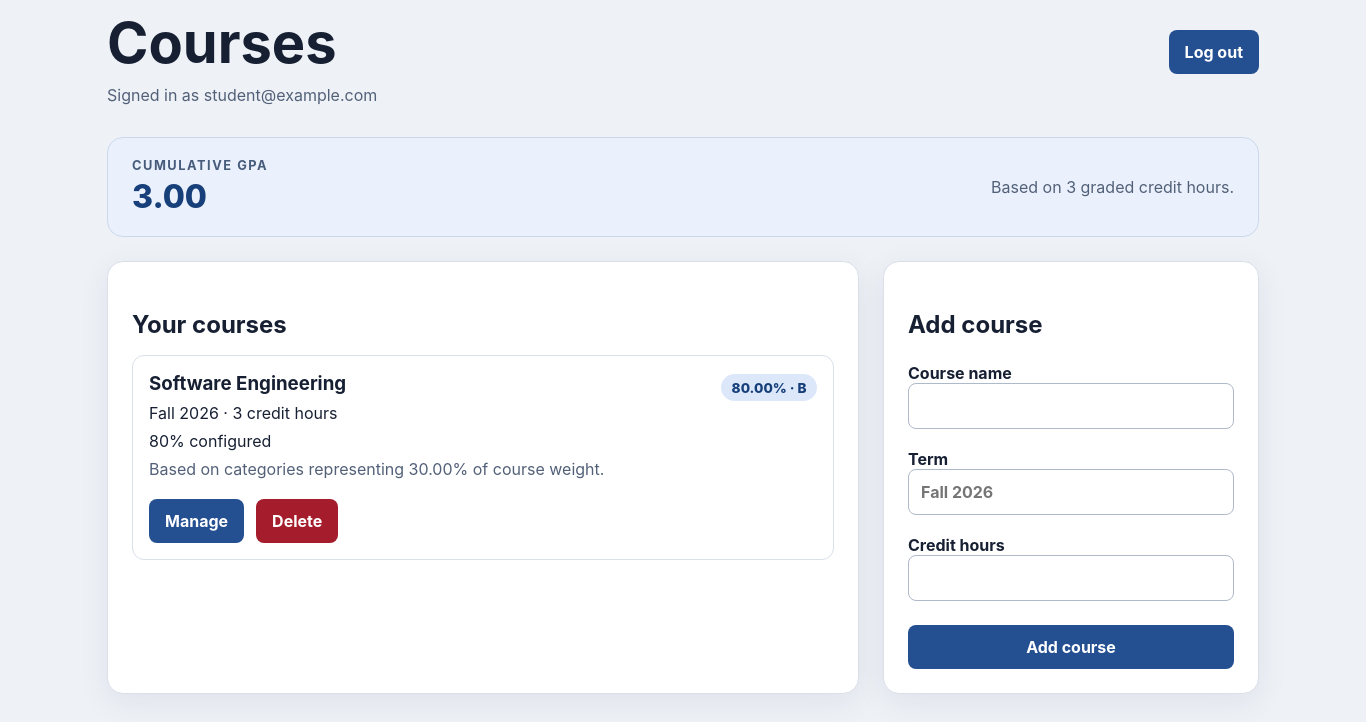
it: What-If calculator › changing Hypothetical points possible clears an existing projection
Click the button "Manage" at (197, 521), box [149,499,244,543]
(page scrolled)
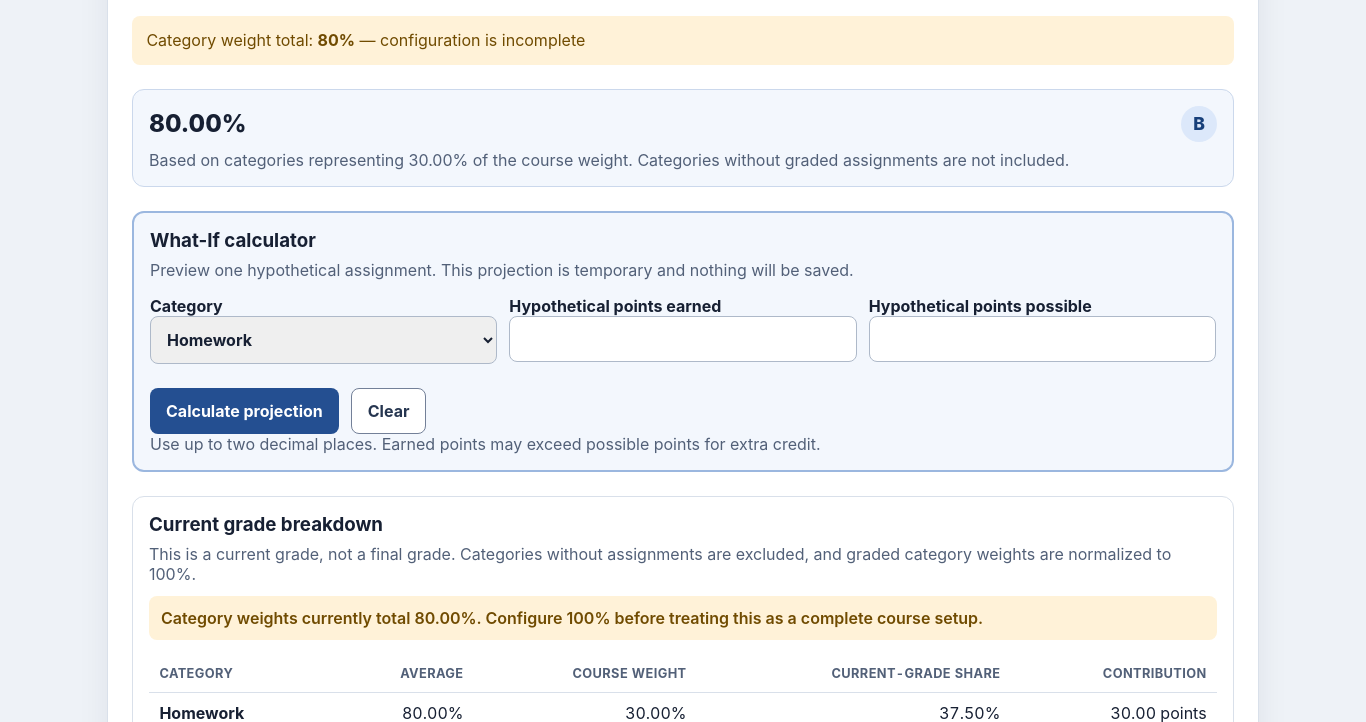
Expected: the heading "What-If calculator" is shown, [150,229,316,252]
Type "92" into the number field labelled "Hypothetical points earned" at (683, 339), box [509,316,857,362]
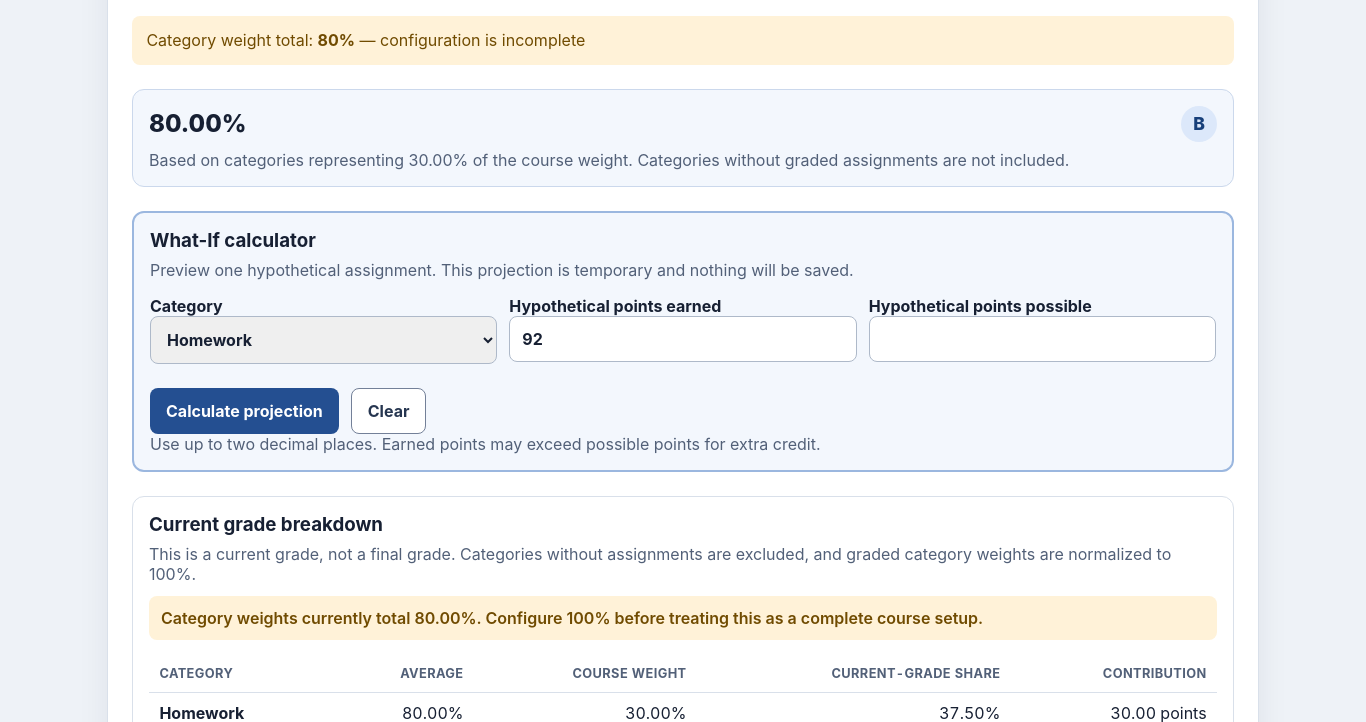
Type "100" into the number field labelled "Hypothetical points possible" at (1042, 339), box [869,316,1216,362]
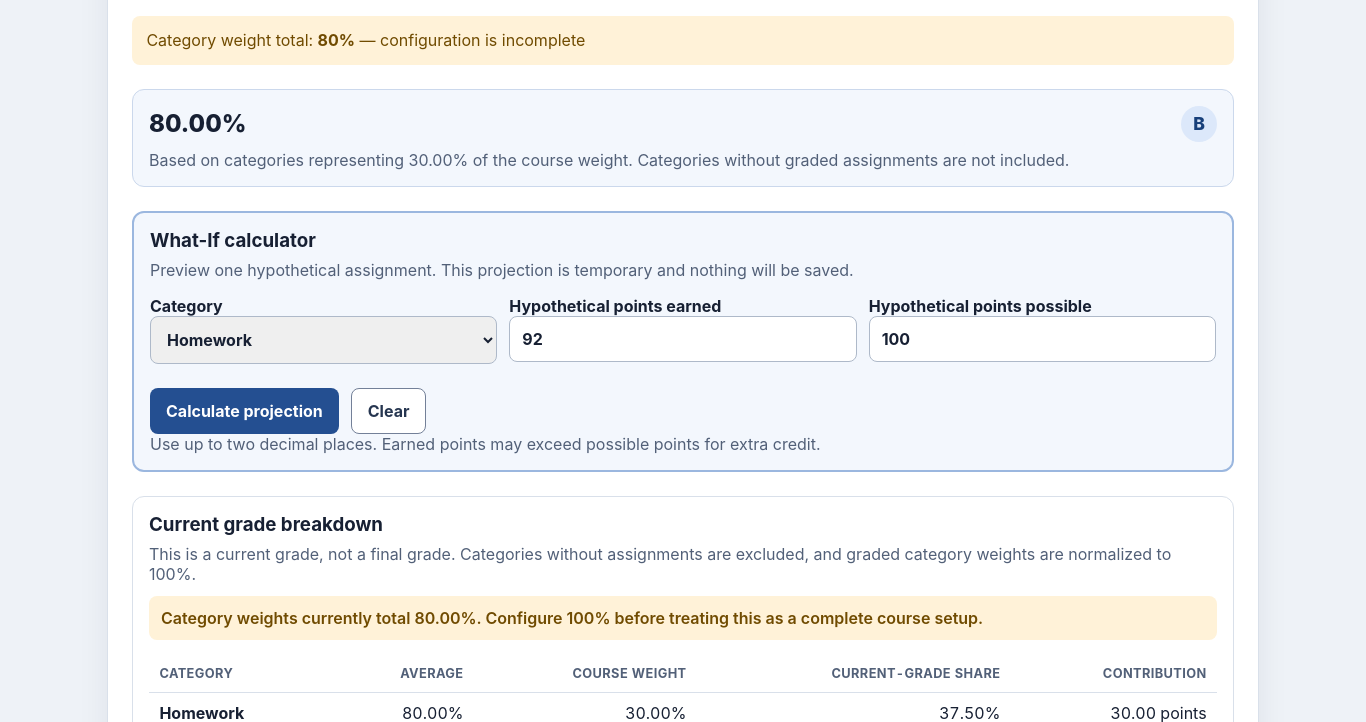
Click the button "Calculate projection" at (244, 411), box [150,388,339,434]
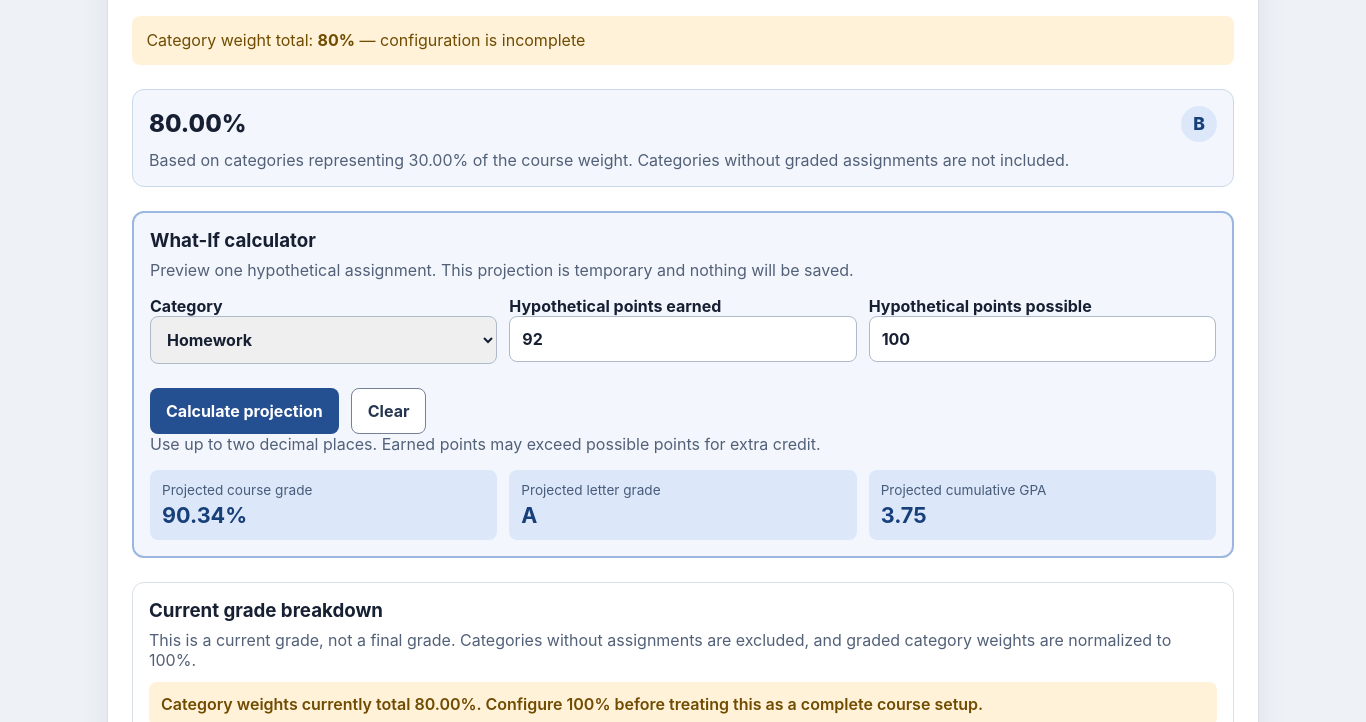
Expected: the text "90.34%" is shown, [162,502,247,528]
Replace the text in the number field labelled "Hypothetical points possible" with "101" at (1042, 339), box [869,316,1216,362]
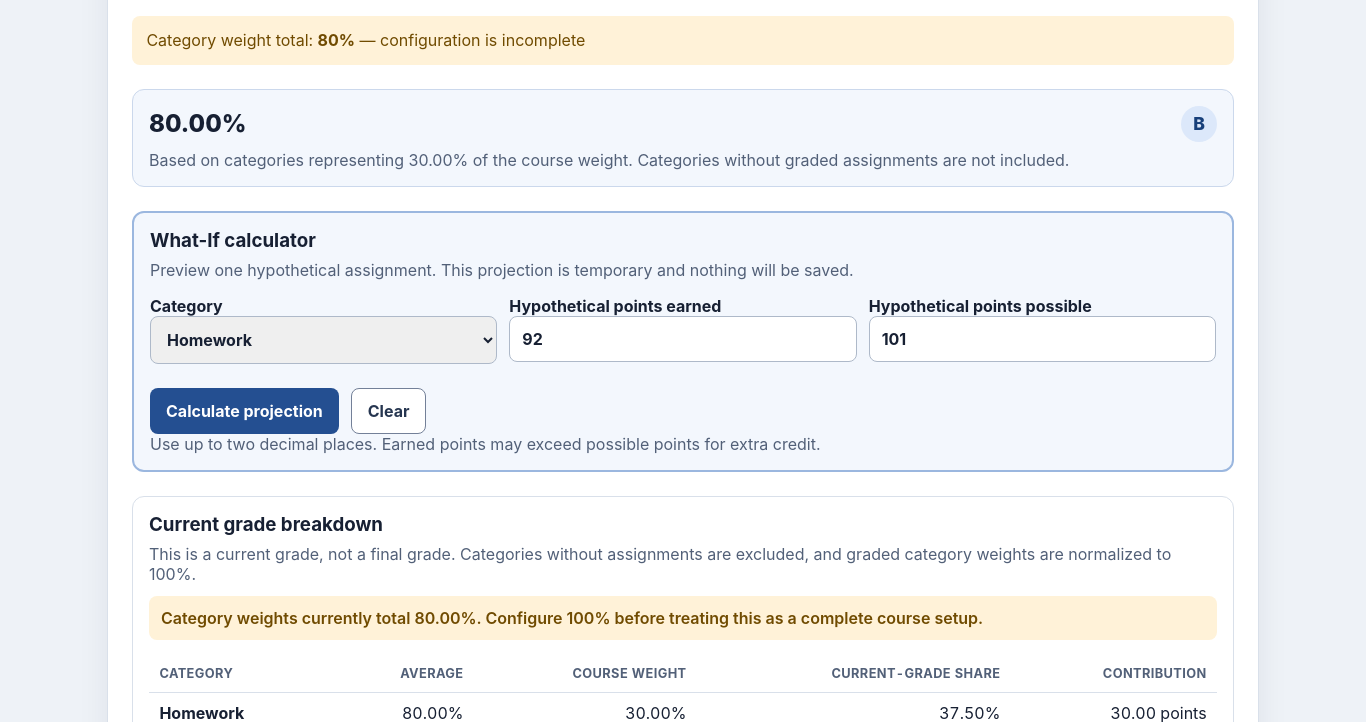
Expected: the text "90.34%" is gone
